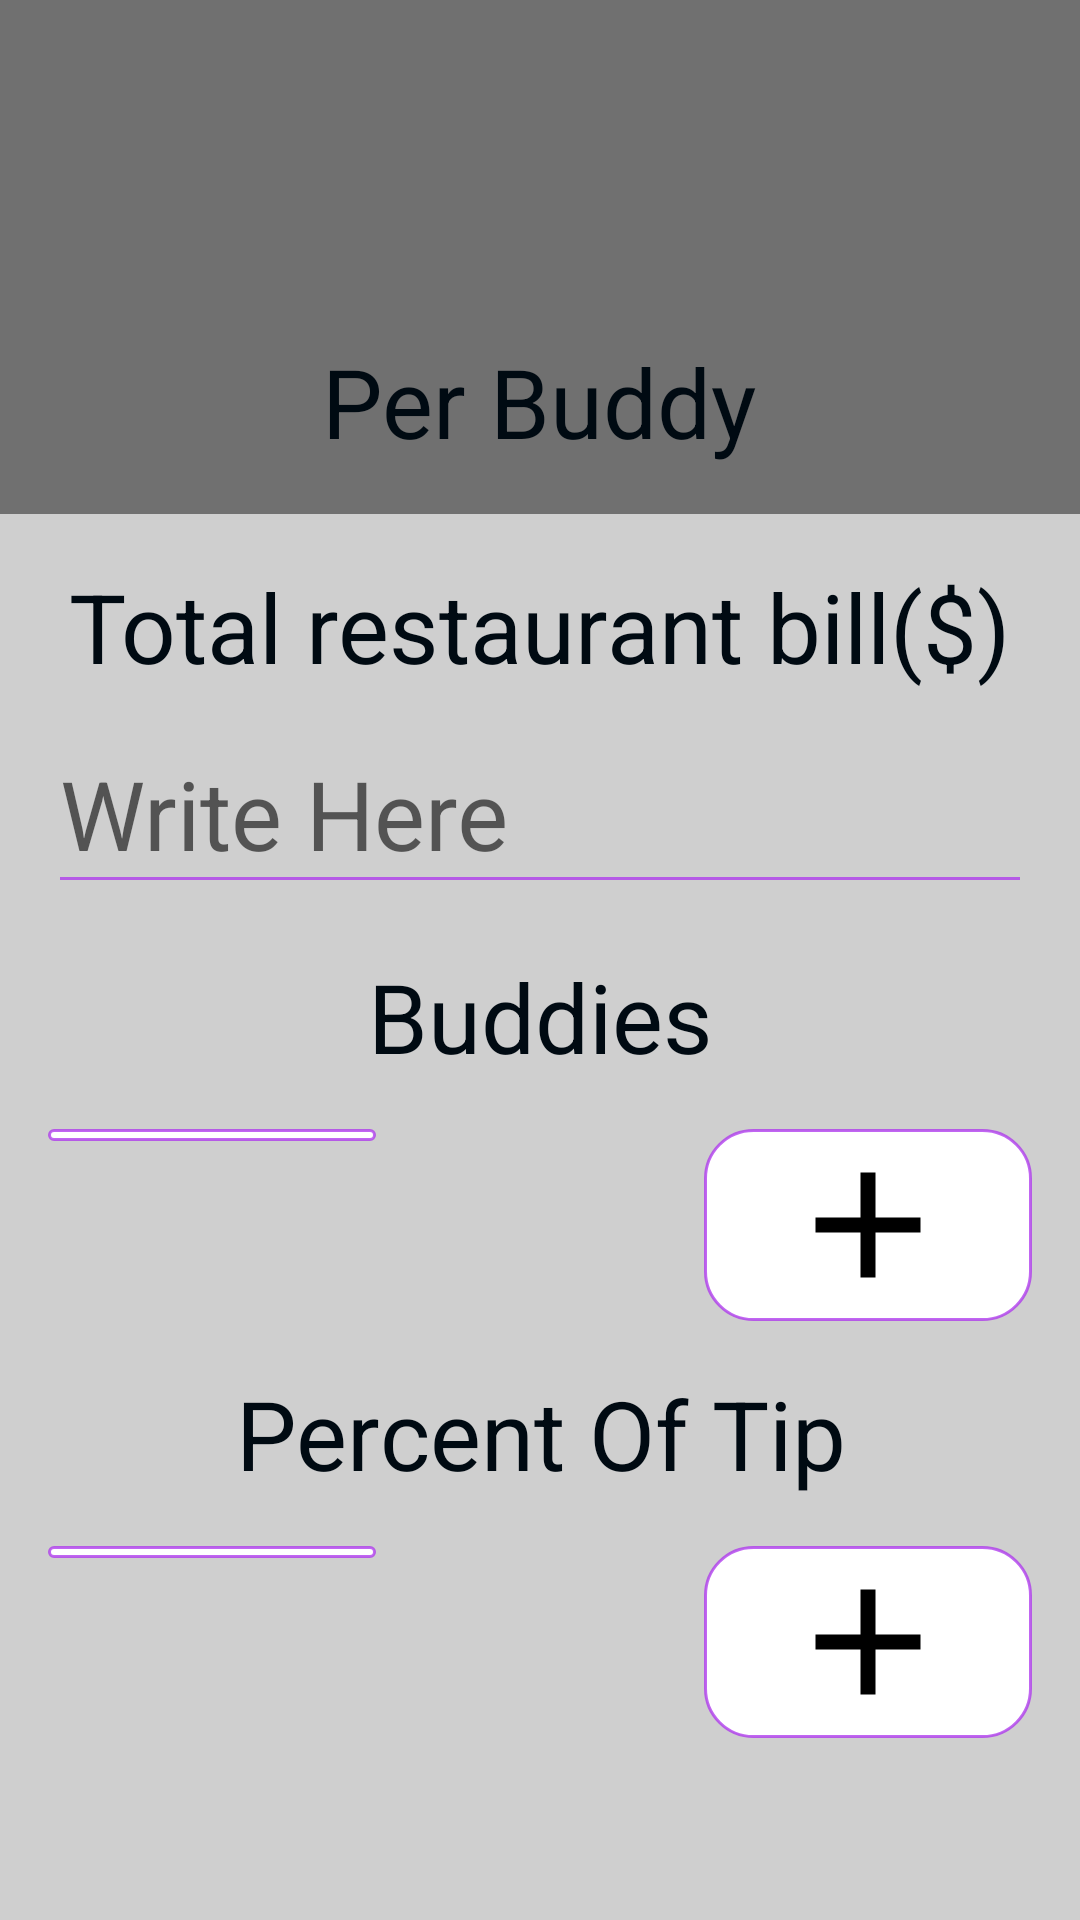

Where icons sit on this 1080 × 1920 app screen, as (x1, y1, x2, y2):
add: (704, 1129, 1032, 1321), (704, 1546, 1032, 1738)
